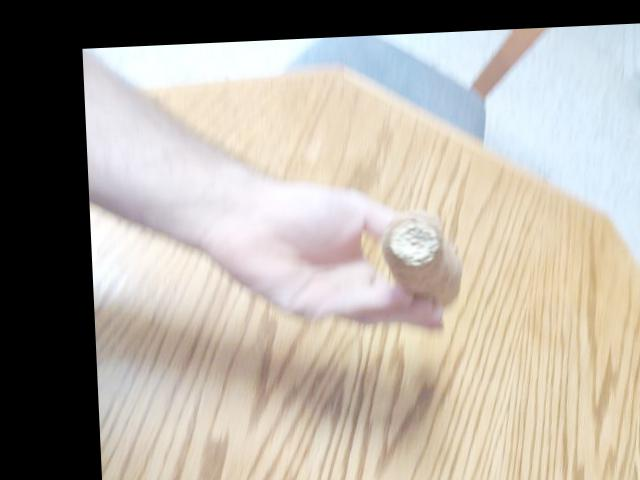sweet_potato: (357, 196, 476, 316)
